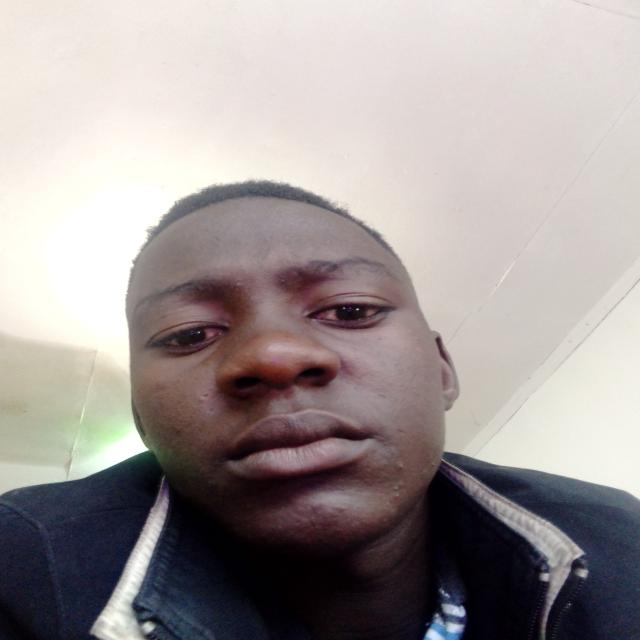Acne: (417, 462, 437, 474), (332, 505, 348, 517), (392, 486, 402, 499), (230, 280, 242, 290), (198, 392, 208, 403), (395, 460, 404, 472), (394, 361, 402, 372)
